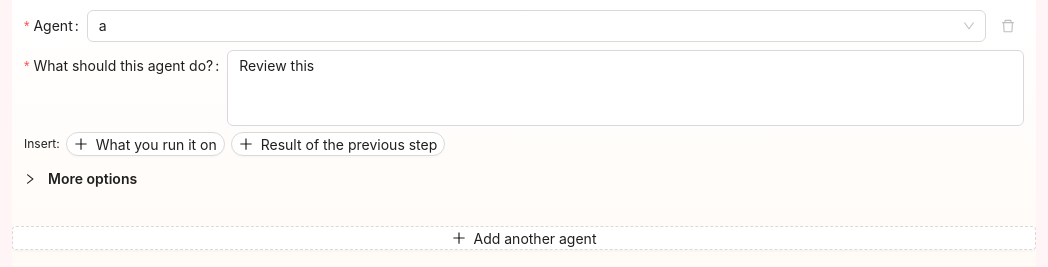
AgentItems insert buttons › adds the placeholder at the end of the prompt
Later steps or results of the test are not shown.
Click the button with test id "insert-input" at {"x": 145, "y": 144}, box top-left (66, 132), bottom-right (225, 156)
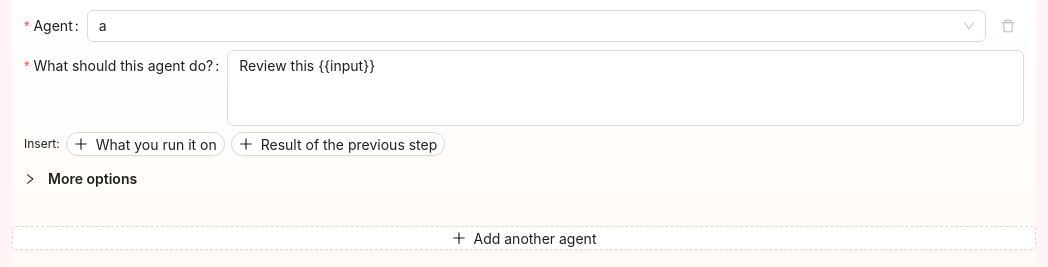
Expected: the text box labelled "What should this agent do?" holds "Review this {{input}}", top-left (227, 50), bottom-right (1024, 126)
